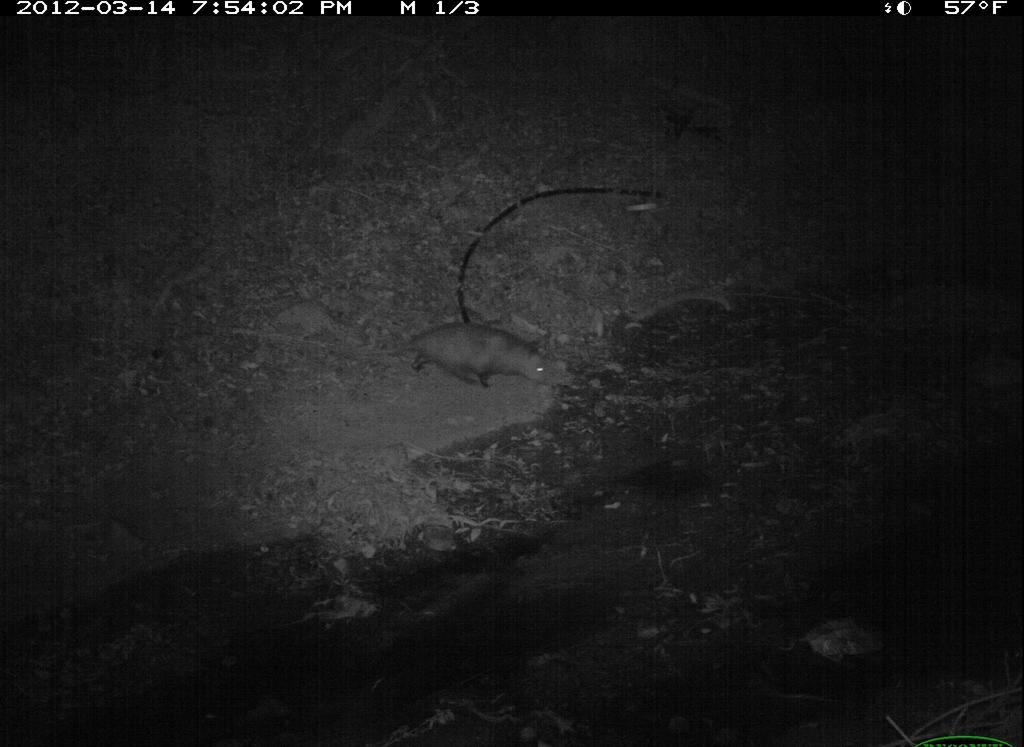opossum: (351, 320, 561, 400)
